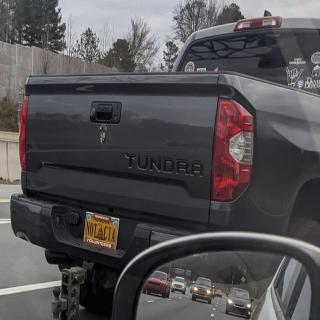license: (83, 212, 120, 251)
